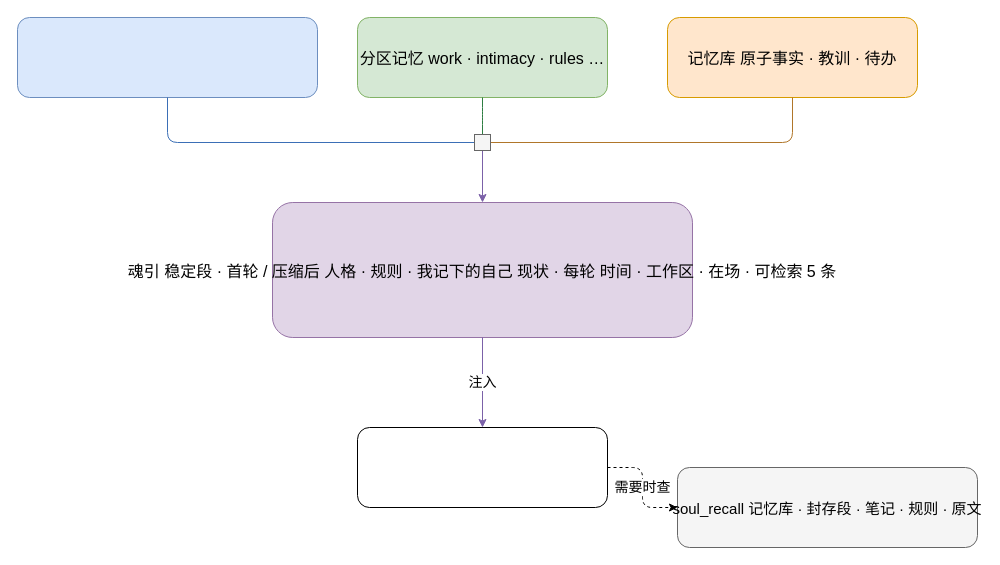
This 1000x565 diagram has some shape labels left out. The shapes that lost their labels are listed below. From the top down, each one's centre as x and y in pixels, then its label:
At (x=167, y=57): "soul.md 人格：我是谁、信什么、不做什么".
At (x=482, y=467): "模型上下文".
